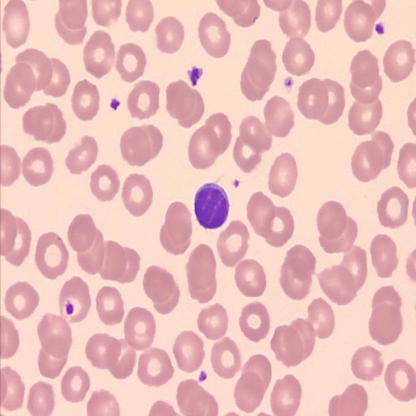Lymphocyte: (193, 182, 230, 230)
